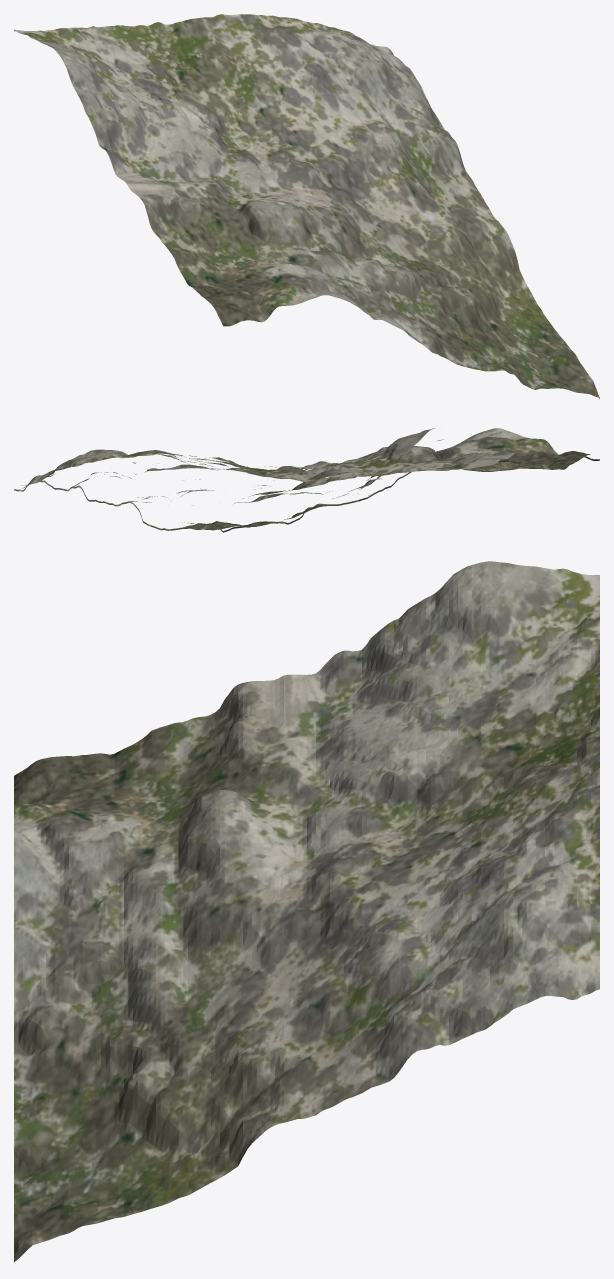
The picture shows the model from 3 angles, top to bottom: view 1: azimuth 30°, elevation 25°; view 2: azimuth 150°, elevation 25°; view 3: azimuth 270°, elevation 25°; orthographic projection. The views are drawn at different scales.
Size of the model in its own units: 250 by 202 by 241.
1 material, 1 textured.
